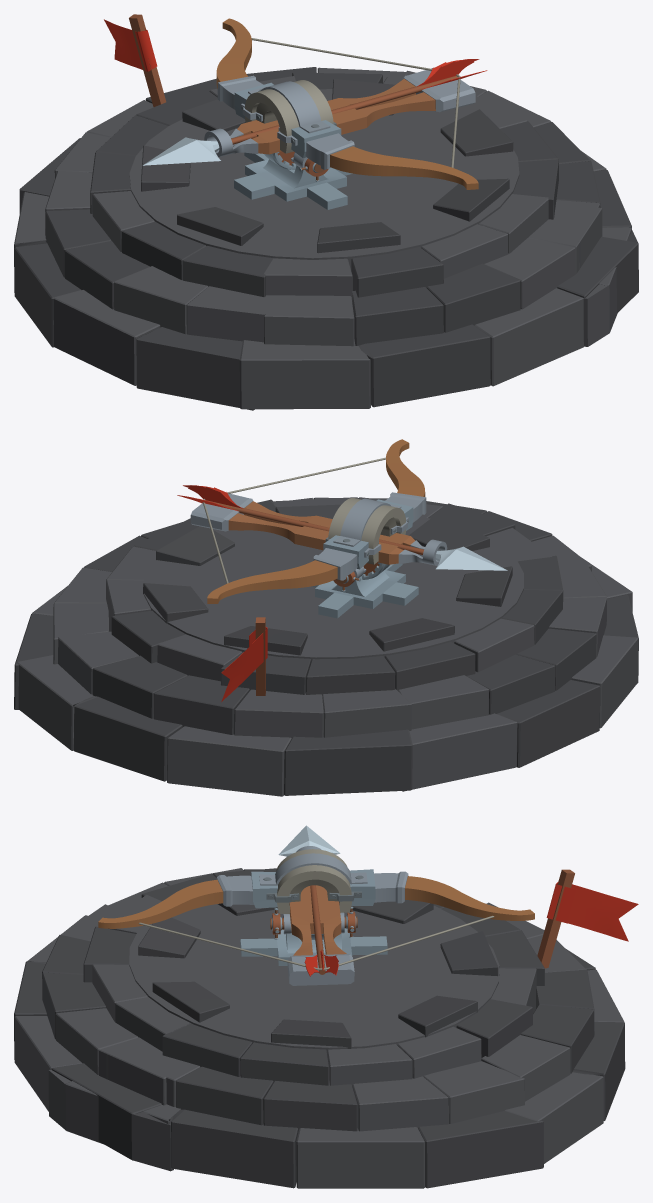
File: ArcherTower-lvl1.fbx
The picture shows the model from 3 angles, top to bottom: view 1: azimuth 30°, elevation 25°; view 2: azimuth 150°, elevation 25°; view 3: azimuth 270°, elevation 25°; orthographic projection. The views are drawn at different scales.
Visible parts, largest first — view 1: Plane.009_feather_0.005, Cylinder.015_bone_0.001, Cube.001_metall-2_0.001, Plane.003_feather_0.001; view 2: Plane.009_feather_0.005, Cylinder.015_bone_0.001, Cube.001_metall-2_0.001, Plane.003_feather_0.001; view 3: Plane.009_feather_0.005, Cylinder.015_bone_0.001, Cube.001_metall-2_0.001, Plane.003_feather_0.001.
Part boxes in pixels (x1,y1,x2,y2): Plane.009_feather_0.005: (14, 14, 638, 410); Cylinder.015_bone_0.001: (204, 18, 478, 189); Cube.001_metall-2_0.001: (234, 152, 352, 209); Plane.003_feather_0.001: (143, 59, 487, 165); Plane.009_feather_0.005: (14, 497, 638, 796); Cylinder.015_bone_0.001: (190, 439, 447, 603); Cube.001_metall-2_0.001: (311, 563, 418, 618); Plane.003_feather_0.001: (177, 485, 507, 570); Plane.009_feather_0.005: (14, 868, 638, 1188); Cylinder.015_bone_0.001: (98, 846, 534, 985); Cube.001_metall-2_0.001: (240, 928, 387, 965); Plane.003_feather_0.001: (278, 825, 340, 976).
Size of the model in its own units: 778 by 270 by 803.
